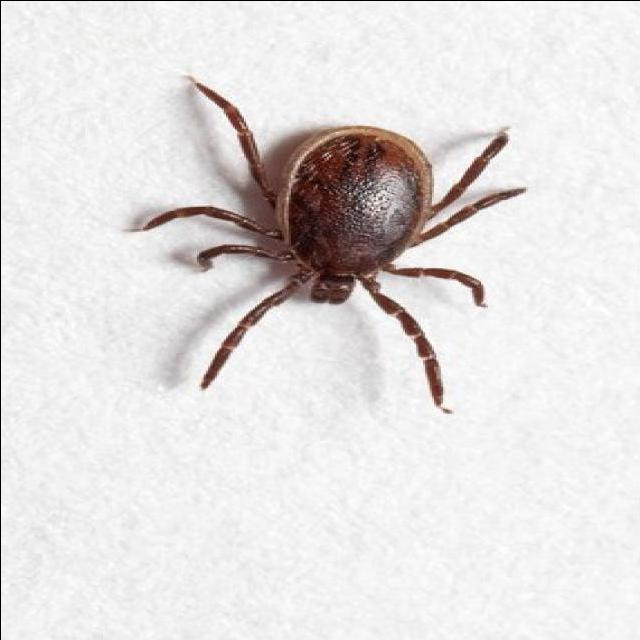Ixodes Ricinus-M: (134, 78, 526, 413)
